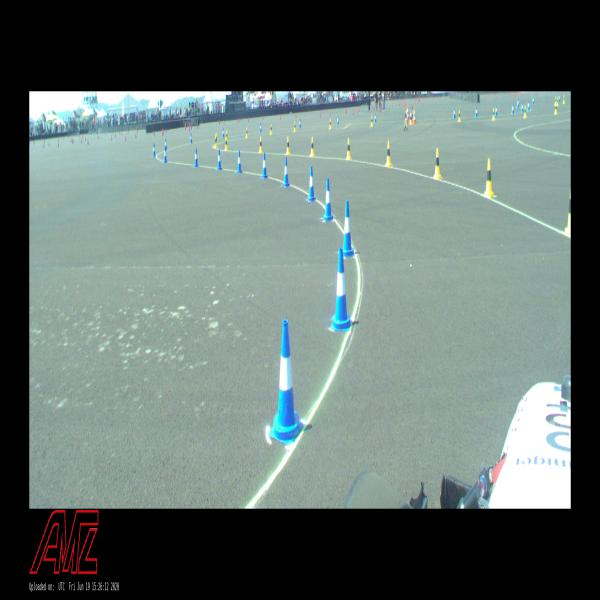blue_cone: (269, 320, 303, 444), (331, 248, 351, 330), (342, 201, 354, 256), (324, 179, 334, 220), (308, 166, 316, 202), (283, 158, 289, 186), (262, 153, 268, 179), (237, 150, 242, 172), (194, 149, 199, 166), (218, 150, 222, 169), (164, 147, 167, 162), (453, 108, 456, 118), (374, 113, 377, 122), (153, 144, 155, 157), (190, 132, 192, 144), (165, 139, 167, 150), (475, 107, 477, 117), (512, 104, 514, 114), (496, 106, 498, 116), (528, 101, 530, 110), (299, 119, 301, 128), (337, 116, 339, 125), (223, 128, 224, 138), (522, 103, 523, 112), (260, 124, 261, 132), (559, 94, 560, 102), (533, 97, 534, 104), (517, 100, 518, 107)
large_orange_cone: (413, 106, 416, 124), (406, 108, 408, 124), (407, 105, 409, 120)
unknown_cone: (125, 135, 127, 141), (190, 124, 192, 130), (166, 127, 167, 134), (353, 109, 354, 115), (162, 130, 163, 136), (153, 130, 154, 136), (189, 126, 190, 132), (320, 112, 321, 118), (330, 110, 331, 116), (224, 120, 225, 125), (380, 107, 381, 112), (383, 105, 384, 110), (44, 143, 44, 148), (88, 139, 88, 144), (136, 133, 136, 138)
yellow_cone: (484, 159, 494, 197), (564, 189, 570, 236), (434, 149, 441, 178), (386, 141, 391, 166), (346, 138, 351, 159), (310, 137, 314, 156), (286, 137, 290, 155), (259, 137, 262, 153), (225, 137, 228, 151), (458, 110, 461, 122), (492, 109, 495, 120), (226, 130, 228, 141), (215, 136, 217, 147), (555, 103, 557, 114), (524, 107, 526, 118), (370, 116, 372, 126), (270, 124, 272, 134), (294, 122, 296, 132), (329, 119, 331, 129), (246, 127, 248, 137), (410, 114, 412, 124), (563, 95, 565, 104), (216, 133, 217, 145), (557, 97, 558, 105), (555, 96, 556, 104)
